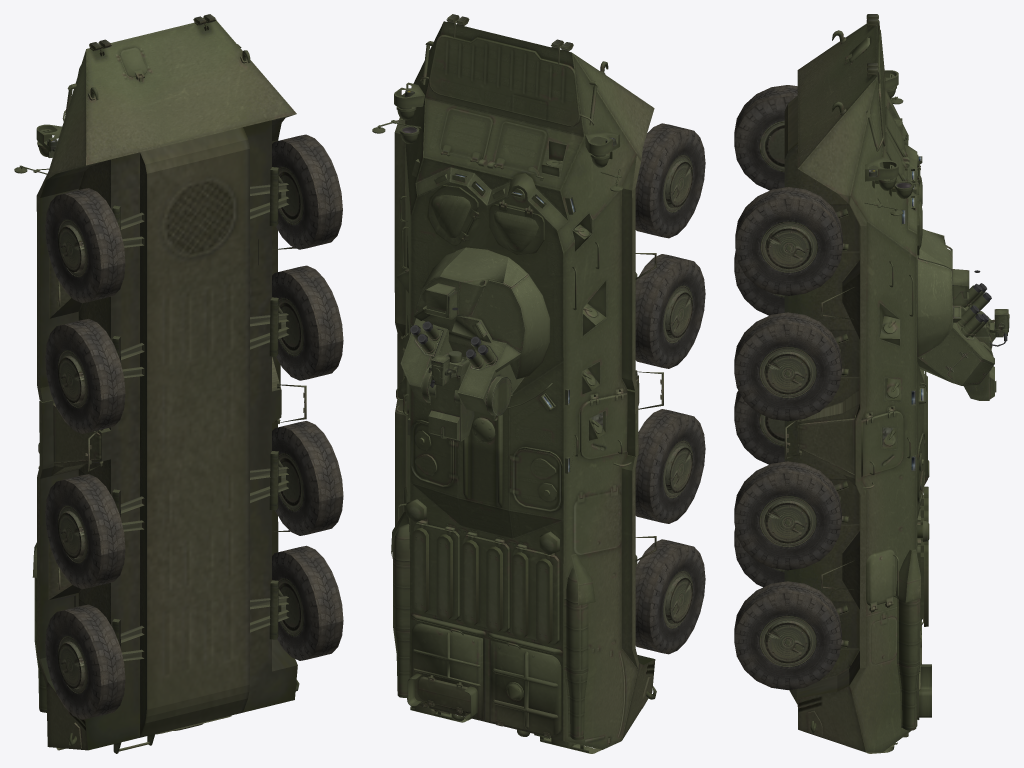
File: BTR-82A Hull CollisionModel.fbx
3 renders of one model, left to right at view 1: azimuth 30°, elevation 25°; view 2: azimuth 150°, elevation 25°; view 3: azimuth 270°, elevation 25°, orthographic. The views are drawn at different scales.
Visible parts, largest first — view 1: Hull.001, Right Wheel_2.001, Right Wheel_4.001, Right Wheel_1.001, Right Wheel_3.001, Left Wheel_4.001, Left Wheel_3.001, Left Wheel_2.001, Left Wheel_1.001; view 2: Hull.001, Turret.001, Right Wheel_4.001, Right Wheel_2.001, Right Wheel_3.001, Right Wheel_1.001, Guns Group, Driver Hatch, Co-Driver Hatch; view 3: Hull.001, Left Wheel_2.001, Left Wheel_3.001, Left Wheel_4.001, Left Wheel_1.001, Turret.001, Right Wheel_1.001, Right Wheel_3.001, Guns Group, Right Wheel_2.001, Right Wheel_4.001, Co-Driver Hatch.
Boxes of the visible parts, x1,y1,x2,y2 form: Hull.001: [14, 14, 306, 753]; Right Wheel_2.001: [45, 318, 125, 433]; Right Wheel_4.001: [45, 604, 125, 719]; Right Wheel_1.001: [45, 188, 125, 303]; Right Wheel_3.001: [45, 474, 125, 589]; Left Wheel_4.001: [272, 545, 343, 660]; Left Wheel_3.001: [272, 421, 343, 535]; Left Wheel_2.001: [272, 265, 343, 380]; Left Wheel_1.001: [272, 134, 342, 249]; Hull.001: [372, 14, 663, 753]; Turret.001: [400, 247, 550, 420]; Right Wheel_4.001: [635, 539, 705, 654]; Right Wheel_2.001: [635, 254, 705, 368]; Right Wheel_3.001: [635, 409, 705, 523]; Right Wheel_1.001: [635, 123, 705, 238]; Guns Group: [428, 307, 474, 441]; Driver Hatch: [440, 110, 491, 162]; Co-Driver Hatch: [494, 123, 545, 176]; Hull.001: [784, 14, 931, 753]; Left Wheel_2.001: [734, 312, 841, 421]; Left Wheel_3.001: [734, 461, 841, 570]; Left Wheel_4.001: [734, 581, 841, 689]; Left Wheel_1.001: [735, 187, 842, 295]; Turret.001: [917, 229, 995, 385]; Right Wheel_1.001: [734, 85, 797, 190]; Right Wheel_3.001: [734, 390, 784, 464]; Guns Group: [963, 270, 1009, 400]; Right Wheel_2.001: [734, 250, 784, 315]; Right Wheel_4.001: [734, 528, 784, 587]; Co-Driver Hatch: [885, 106, 907, 156].
Bounding box in the file's own units: 291 × 770 × 288.
Materials: 4 (4 with a texture image).
